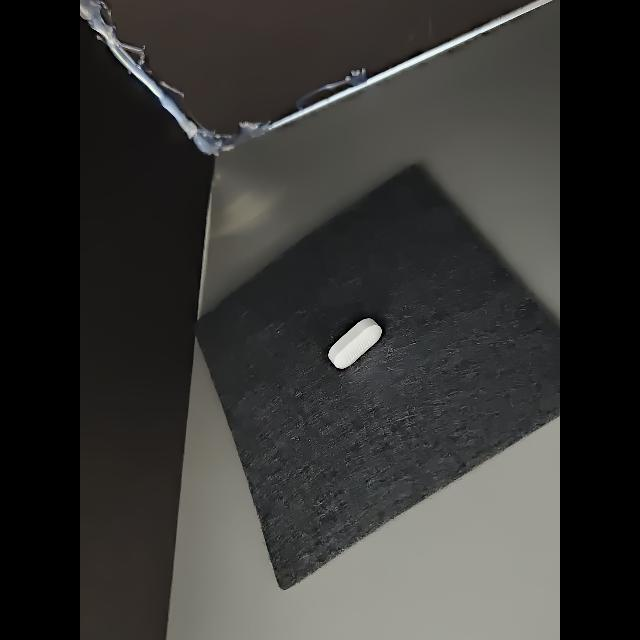Intact Pill: (328, 318, 382, 369)
